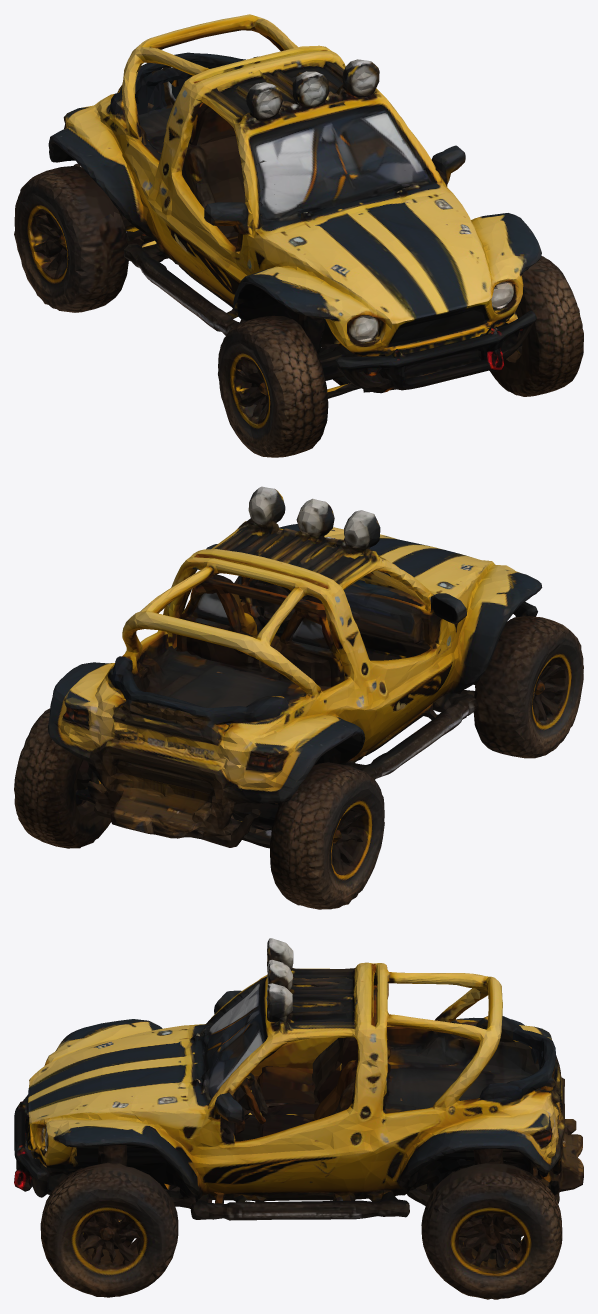
The model's file is amarillo.glb.
3 views of the same model, one above another, from view 1: azimuth 30°, elevation 25°; view 2: azimuth 150°, elevation 25°; view 3: azimuth 270°, elevation 25° (orthographic). The views are drawn at different scales.
Visible parts, largest first — view 1: textured_mesh.obj; view 2: textured_mesh.obj; view 3: textured_mesh.obj.
Part boxes in pixels (x1,y1,x2,y2): textured_mesh.obj: (14, 14, 583, 457); textured_mesh.obj: (14, 486, 583, 909); textured_mesh.obj: (14, 938, 583, 1299).
Size of the model in its own units: 1.19 by 1.05 by 1.99.
Materials: 1 (1 with a texture image).
